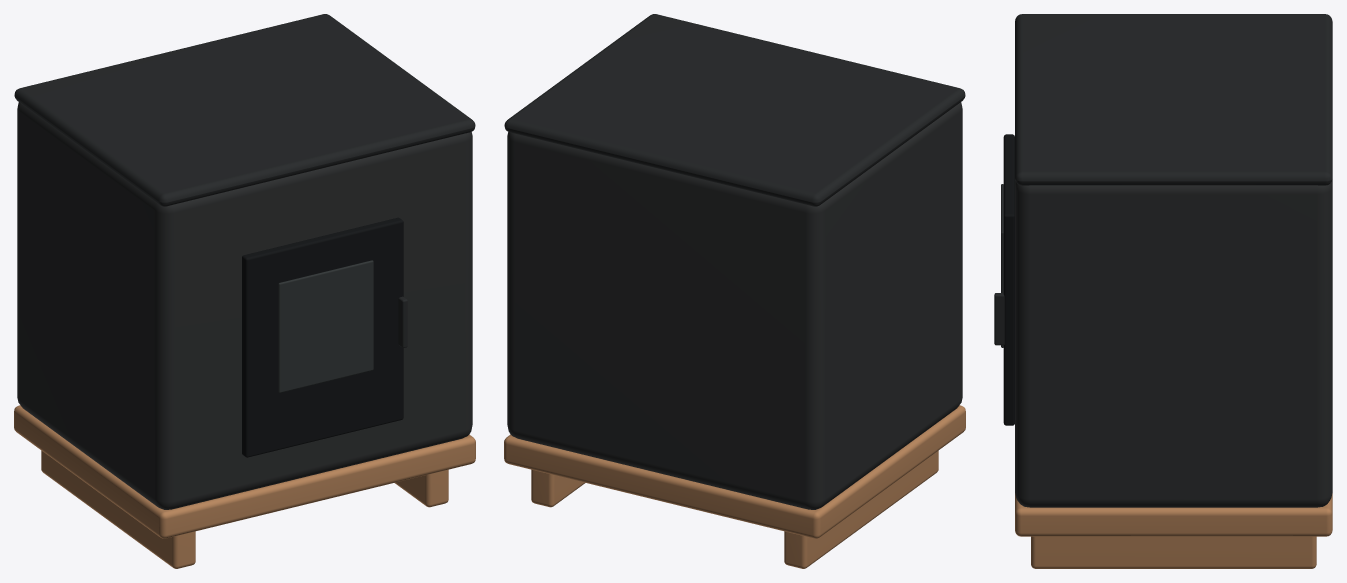
Rendered from ravelli-aria-nero.glb.
The picture shows the model from 3 angles, left to right: view 1: azimuth 30°, elevation 25°; view 2: azimuth 150°, elevation 25°; view 3: azimuth 270°, elevation 25°; orthographic projection. The views are drawn at different scales.
Parts seen in each view (by area): view 1: Corpo, Coperchio, Cornice porta, Basamento legno, Vetro sportello, Piede legno, Piede legno.001; view 2: Corpo, Coperchio, Basamento legno, Piede legno, Piede legno.001; view 3: Corpo, Coperchio, Basamento legno, Piede legno.001, Cornice porta, Maniglia.
Boxes of the visible parts, <box> form: Corpo: <box>17,102,472,509</box>; Coperchio: <box>14,14,475,206</box>; Cornice porta: <box>242,217,403,457</box>; Basamento legno: <box>14,405,475,538</box>; Vetro sportello: <box>278,260,373,392</box>; Piede legno: <box>41,450,195,568</box>; Piede legno.001: <box>395,469,448,507</box>; Corpo: <box>507,102,962,509</box>; Coperchio: <box>504,14,965,206</box>; Basamento legno: <box>504,405,965,538</box>; Piede legno: <box>784,450,938,568</box>; Piede legno.001: <box>531,469,584,507</box>; Corpo: <box>1015,179,1332,507</box>; Coperchio: <box>1015,14,1332,185</box>; Basamento legno: <box>1015,493,1332,536</box>; Piede legno.001: <box>1031,536,1316,568</box>; Cornice porta: <box>1003,134,1014,425</box>; Maniglia: <box>994,293,1004,345</box>.
Size of the model in its own units: 0.62 by 0.72 by 0.543.
